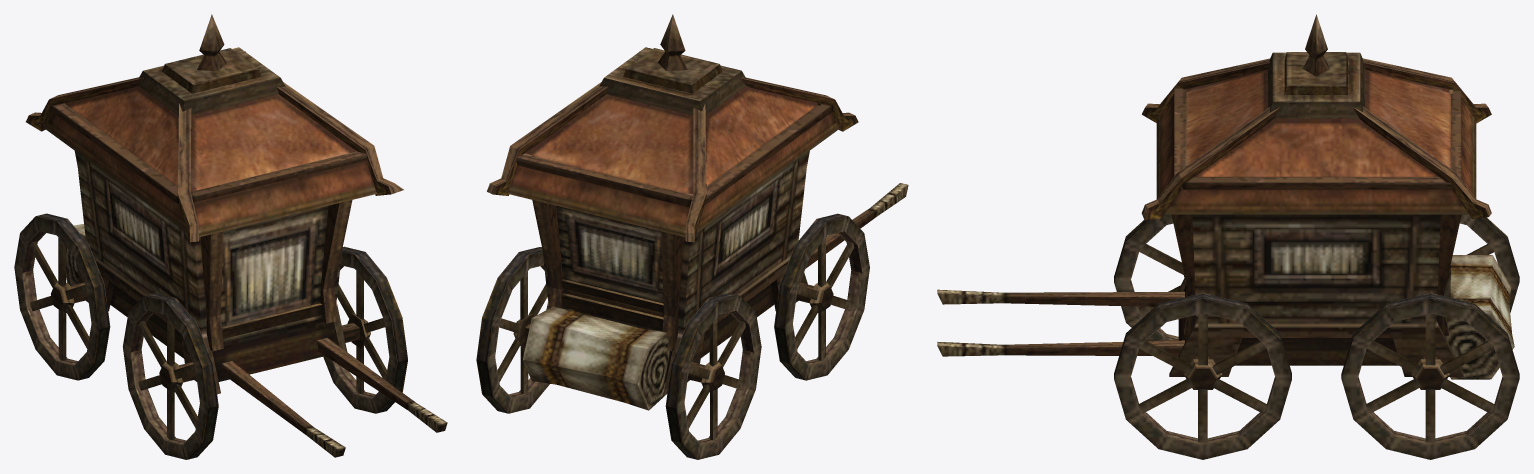
Rendered from general_obj_carriage.glb.
3 renders of one model, left to right at view 1: azimuth 30°, elevation 25°; view 2: azimuth 150°, elevation 25°; view 3: azimuth 270°, elevation 25°, orthographic. The views are drawn at different scales.
Visible parts, largest first — view 1: Object01; view 2: Object01; view 3: Object01.
Part boxes in pixels (x1,y1,x2,y2): Object01: (14, 14, 447, 459); Object01: (476, 14, 908, 459); Object01: (937, 14, 1519, 459).
Size of the model in its own units: 2.58 by 4.33 by 5.78.
Materials: 1 (1 with a texture image).
